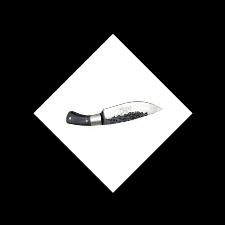k1: (96, 97, 164, 127)
